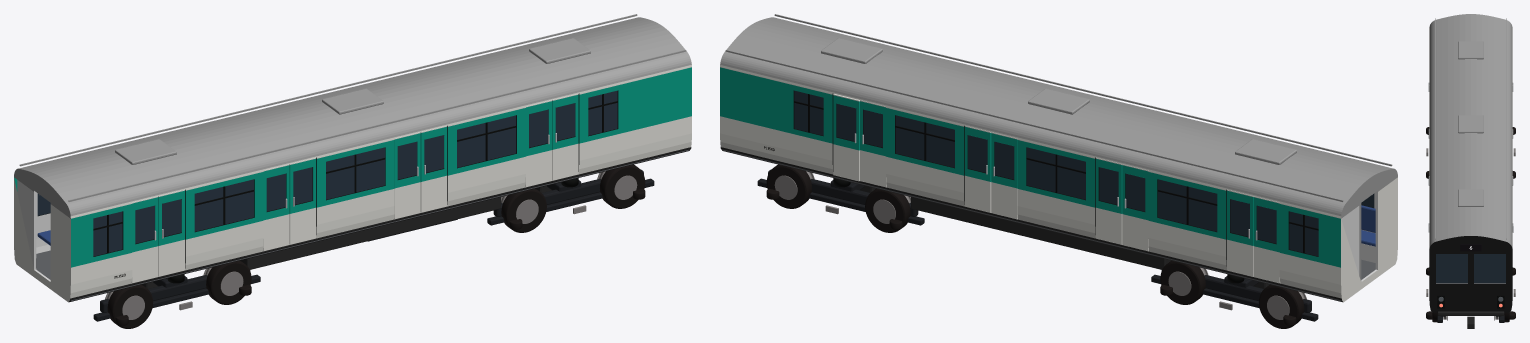
Rendered from mp73__tail.glb.
The picture shows the model from 3 angles, left to right: view 1: azimuth 30°, elevation 25°; view 2: azimuth 150°, elevation 25°; view 3: azimuth 270°, elevation 25°; orthographic projection. The views are drawn at different scales.
Visible parts, largest first — view 1: mp73_tail; view 2: mp73_tail; view 3: mp73_tail.
Part boxes in pixels (x1,y1,x2,y2): mp73_tail: [14, 14, 691, 328]; mp73_tail: [720, 14, 1397, 328]; mp73_tail: [1426, 14, 1515, 328].
Bounding box in the file's own units: 15.65 × 3.49 × 2.6.
Materials: 8 (3 with a texture image).
